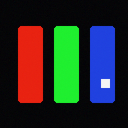1 square: (101, 79, 109, 87)
